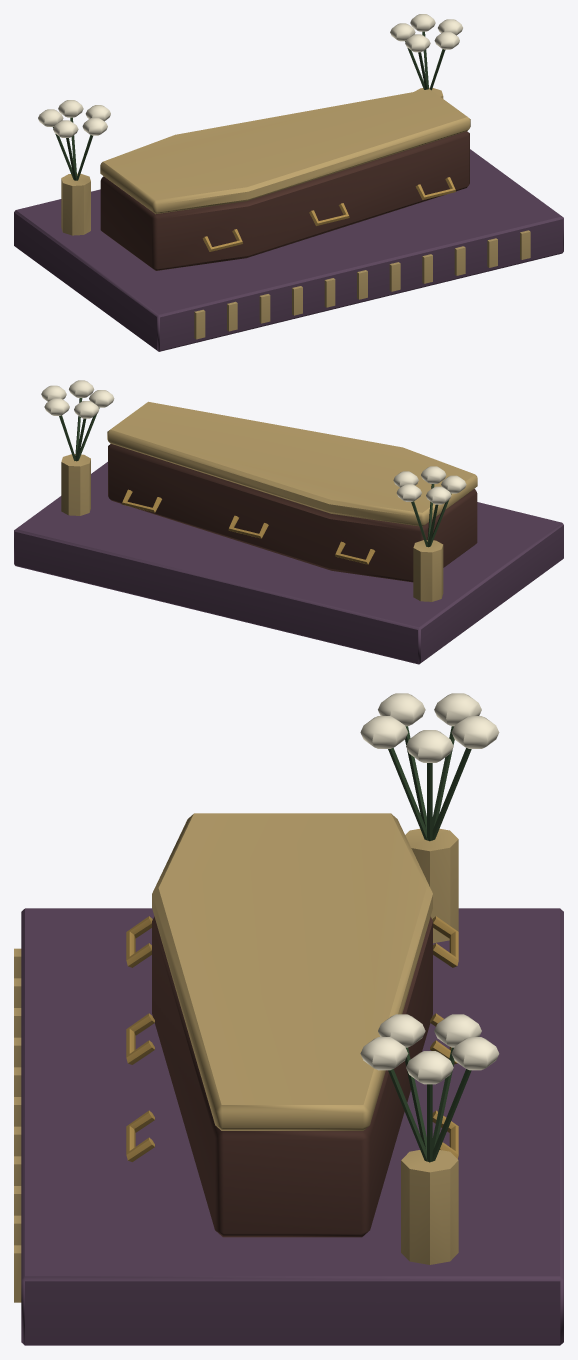
Rendered from dais_viewing.glb.
The picture shows the model from 3 angles, top to bottom: view 1: azimuth 30°, elevation 25°; view 2: azimuth 150°, elevation 25°; view 3: azimuth 270°, elevation 25°; orthographic projection. The views are drawn at different scales.
Parts seen in each view (by area): view 1: dais_viewing; view 2: dais_viewing; view 3: dais_viewing.
Boxes of the visible parts, x1,y1,x2,y2 form: dais_viewing: (14, 14, 563, 351); dais_viewing: (14, 380, 563, 664); dais_viewing: (14, 693, 563, 1345).
Size of the model in its own units: 2.78 by 0.9987 by 1.72.
